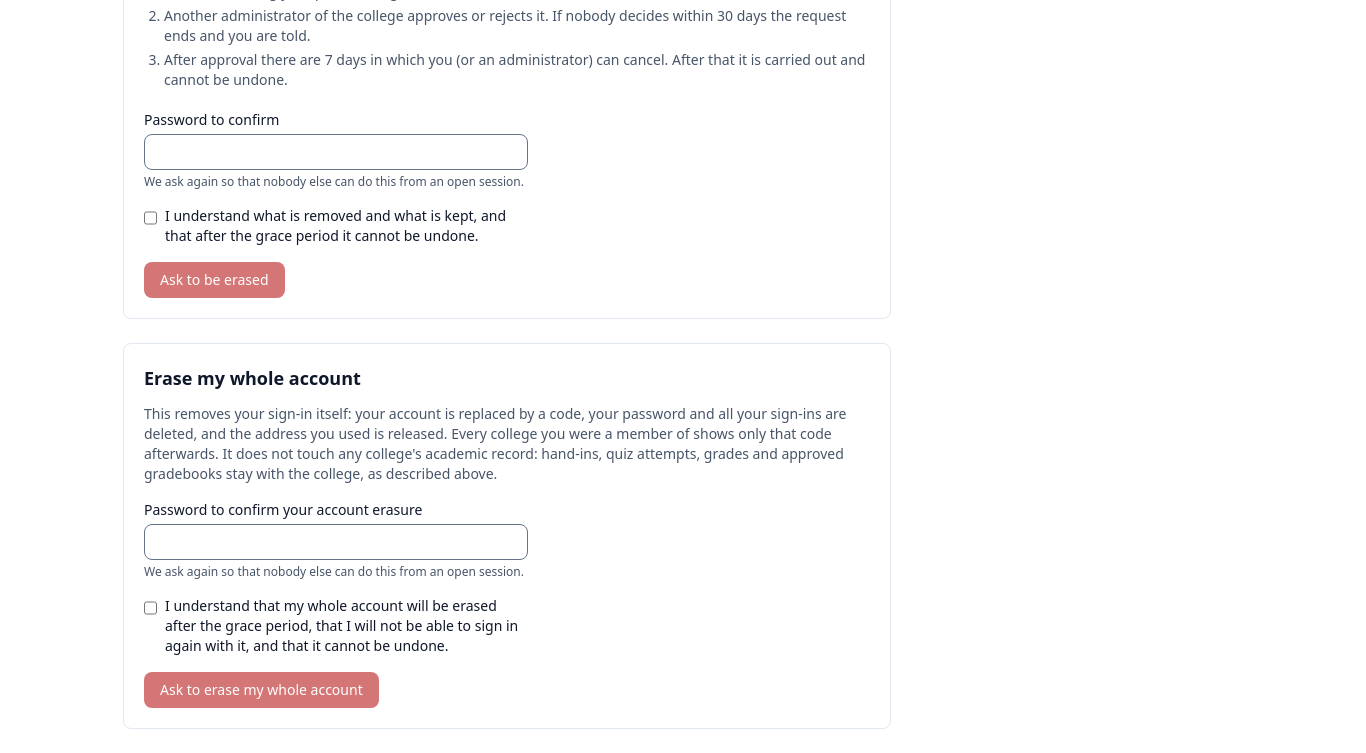
Test: Erase my whole account (member) › a wrong password shows the server message and keeps the form
The image size is (1366, 753).
(page scrolled)
Step 1. Type "wrong" into the password field labelled "Password to confirm your account erasure" → (336, 542), box 144,524 -> 528,560
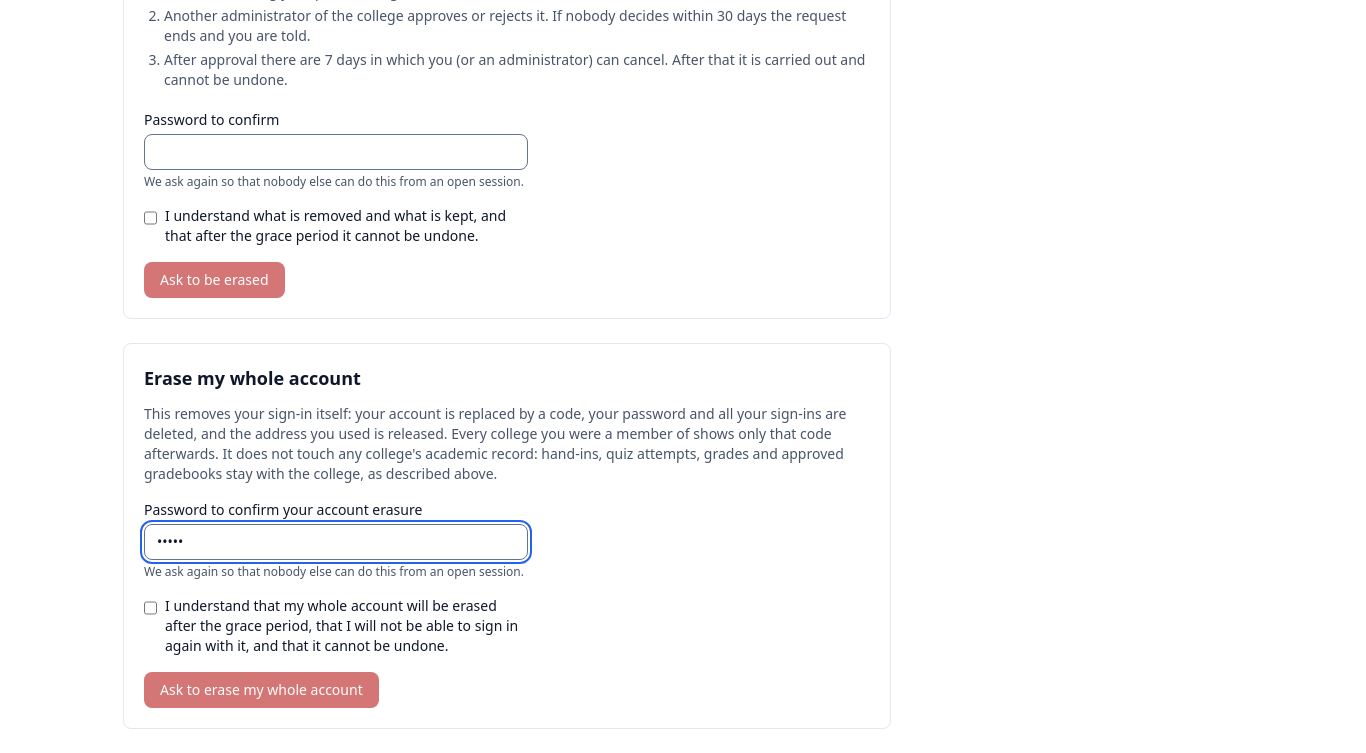
Step 2. Click the checkbox labelled "I understand that my whole account" → (150, 608), box 144,600 -> 157,616
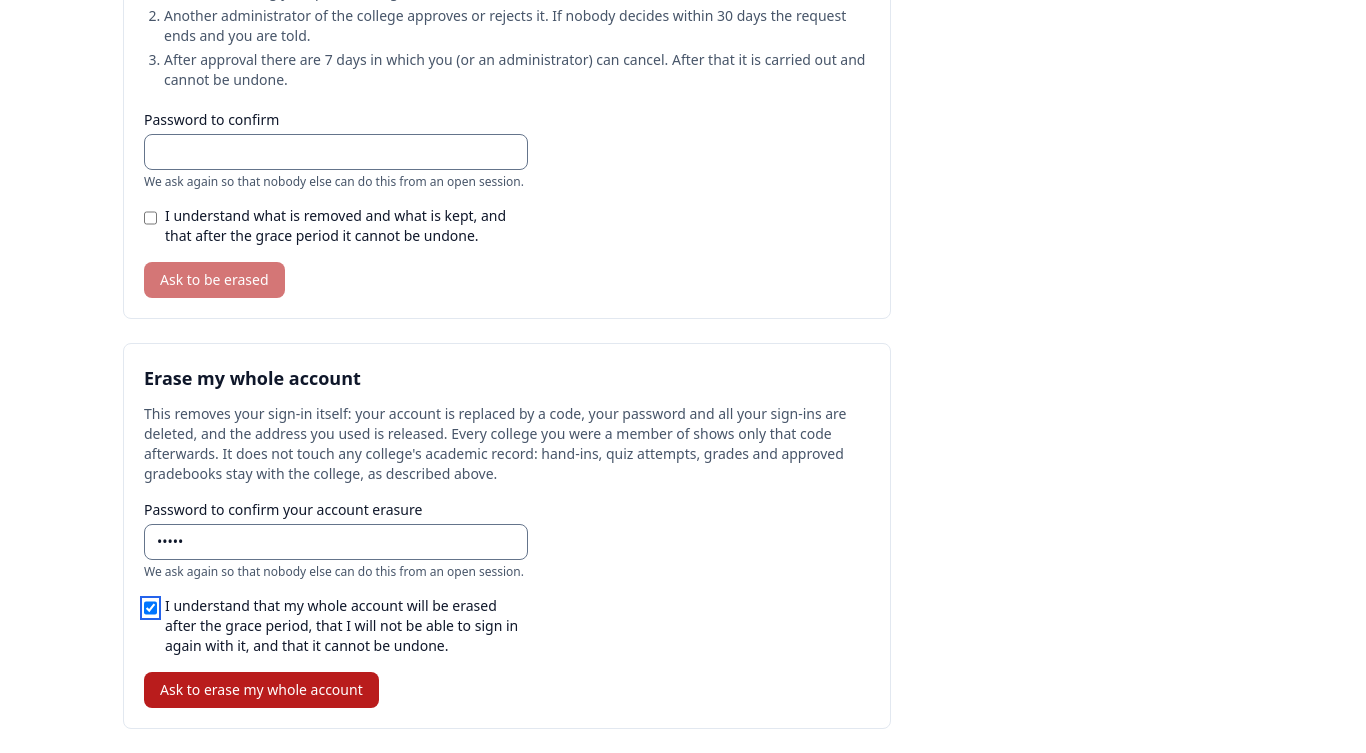
Step 3. Click the button "Ask to erase my whole account" → (261, 690), box 144,672 -> 379,708
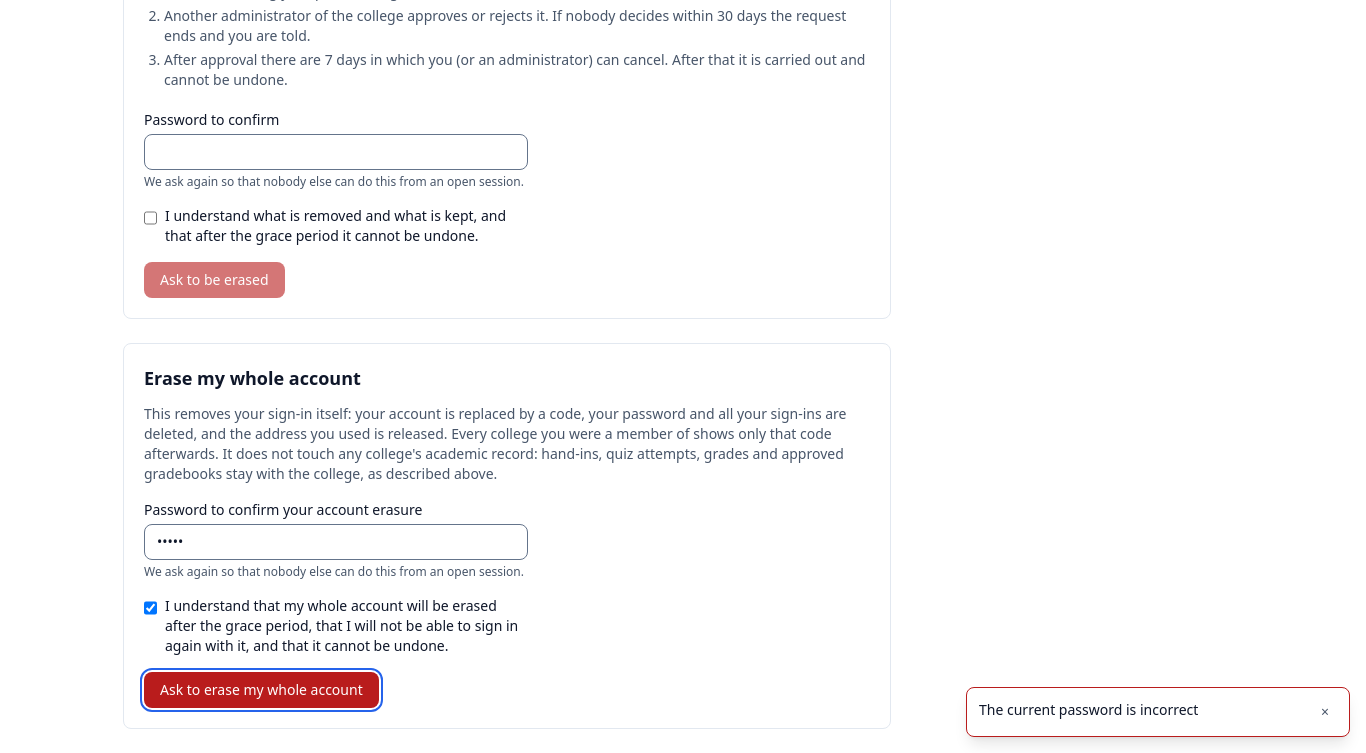
Now the text "The current password is incorrect" is shown, box 979,700 -> 1198,719
